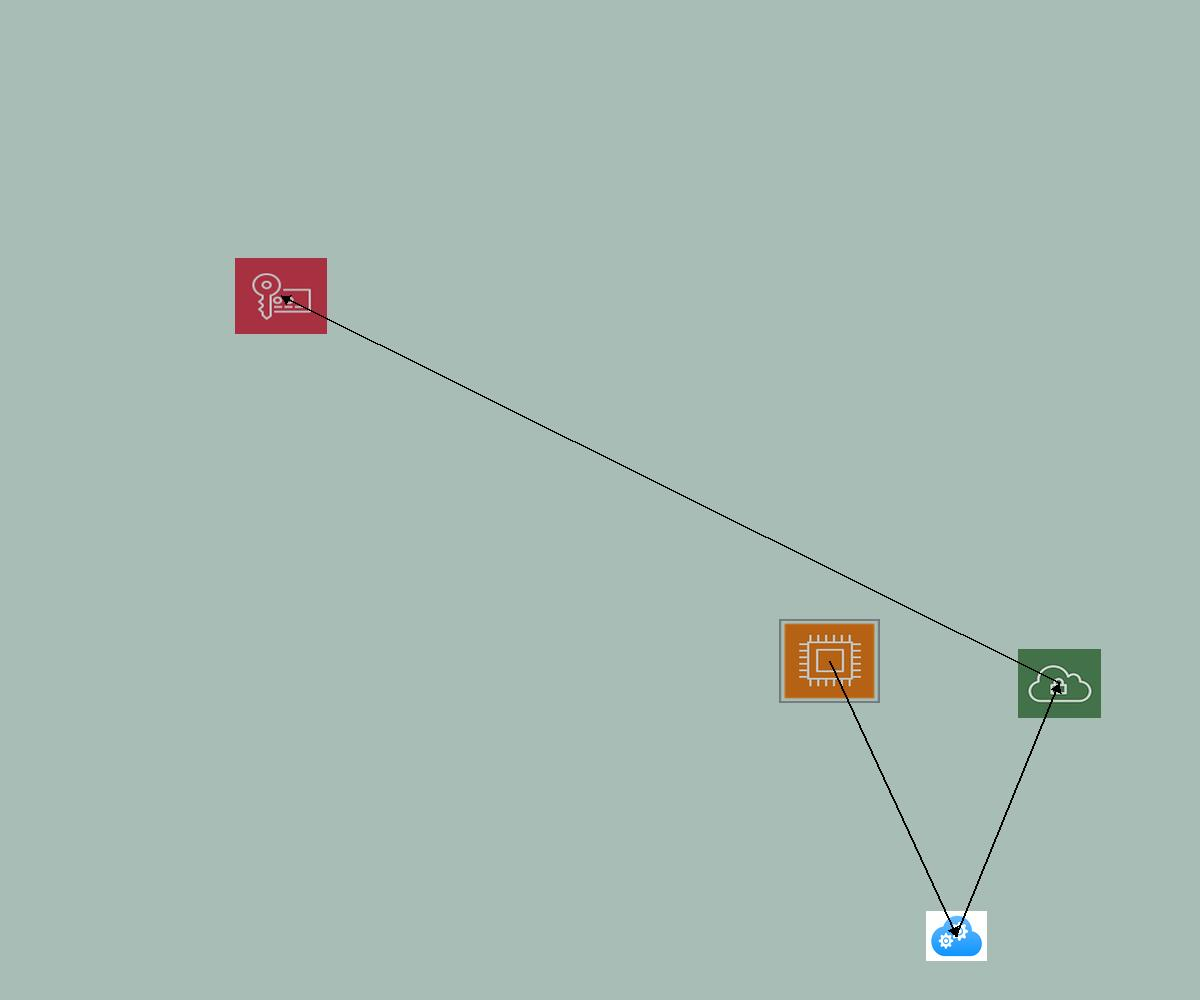AWS-Category_Compute: (779, 619, 880, 703)
AWS-Key-Management-Service: (235, 258, 327, 334)
AWS-Private_vpc: (1018, 649, 1101, 718)
Azure_cloud_services: (926, 911, 987, 961)
